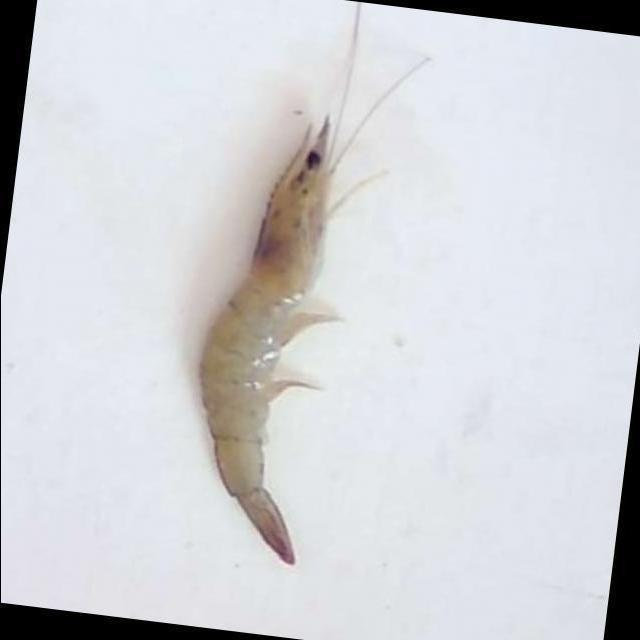shrimp: (202, 118, 341, 565)
